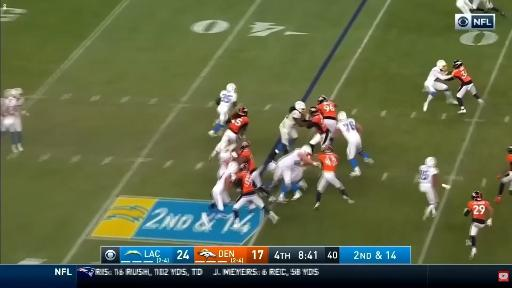Helmet: (294, 101, 306, 113), (219, 151, 232, 162), (227, 162, 238, 173), (437, 60, 447, 70), (226, 83, 237, 92), (425, 157, 436, 166), (267, 162, 276, 172), (472, 191, 482, 200), (301, 145, 311, 154), (338, 111, 347, 121), (12, 87, 23, 95), (453, 60, 463, 68), (318, 96, 328, 104), (322, 145, 333, 152), (241, 141, 250, 149), (310, 107, 319, 115), (240, 163, 248, 171), (239, 107, 247, 115), (507, 145, 511, 154)
Jersey: (214, 162, 238, 189), (338, 118, 360, 141), (425, 67, 451, 85), (468, 200, 489, 222), (281, 107, 301, 130), (278, 149, 303, 167), (238, 149, 256, 172), (237, 171, 254, 195), (2, 97, 22, 116), (419, 165, 438, 185), (317, 101, 336, 120), (319, 153, 338, 172), (229, 116, 249, 134), (452, 66, 472, 83), (311, 114, 327, 134), (219, 90, 237, 107), (219, 152, 231, 166), (507, 154, 511, 163)
Player: (233, 164, 278, 228), (314, 146, 354, 209), (270, 145, 321, 193), (338, 112, 374, 176), (237, 141, 274, 201), (209, 107, 249, 161), (272, 102, 307, 159), (464, 191, 493, 259), (449, 60, 484, 113), (423, 60, 457, 111), (2, 88, 27, 152), (208, 83, 237, 137), (210, 162, 239, 211), (418, 157, 440, 220), (316, 96, 337, 144), (307, 107, 329, 150), (495, 145, 511, 202), (291, 166, 307, 200), (472, 0, 506, 16), (218, 150, 234, 178), (456, 0, 472, 13)
